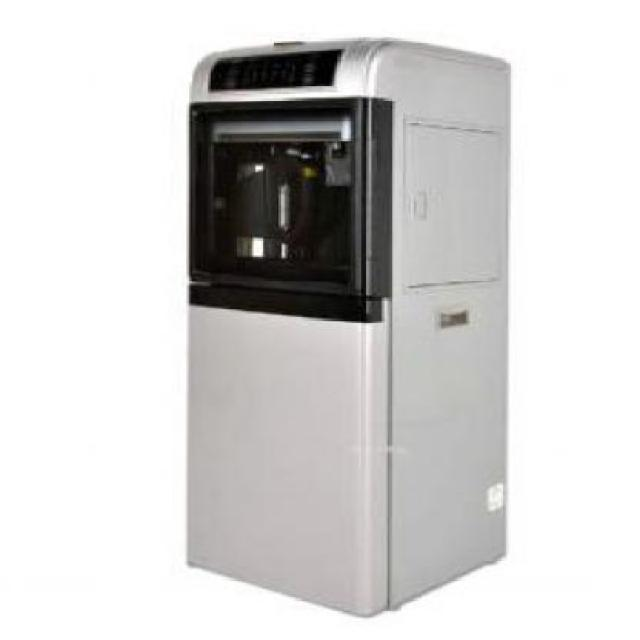cooler: (178, 33, 510, 622)
